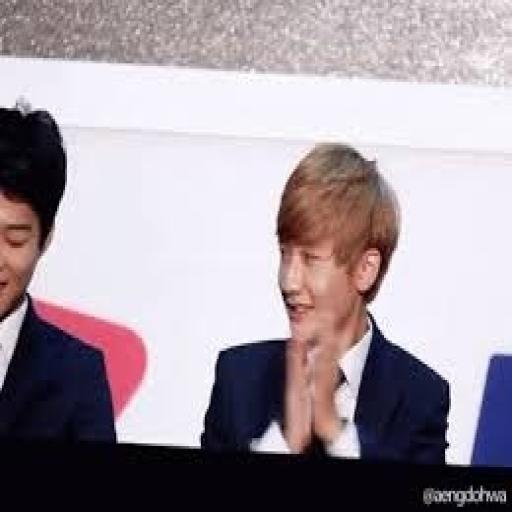clapping: (197, 137, 453, 465)
